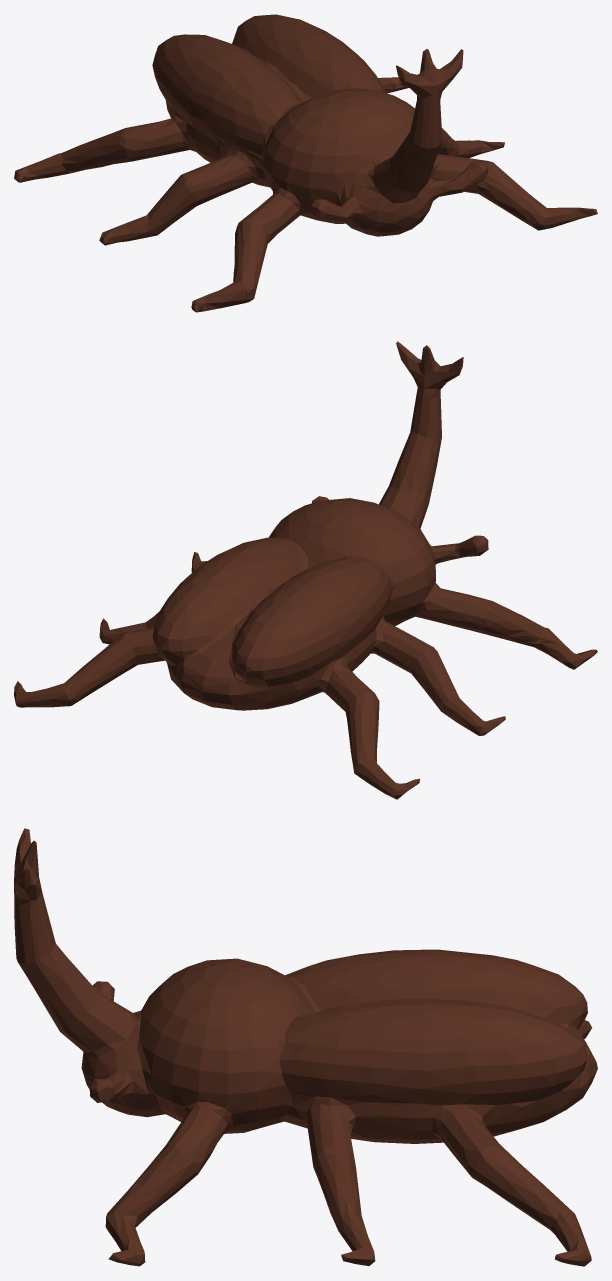
The model's file is NEW_RECOVERY_069_LOD1.glb.
3 views of the same model, one above another, from view 1: azimuth 30°, elevation 25°; view 2: azimuth 150°, elevation 25°; view 3: azimuth 270°, elevation 25° (orthographic). The views are drawn at different scales.
Parts seen in each view (by area): view 1: abdomen; view 2: abdomen; view 3: abdomen.
Boxes of the visible parts, <box> form: abdomen: <box>14,14,597,312</box>; abdomen: <box>14,341,597,799</box>; abdomen: <box>14,828,597,1266</box>.
Bounding box in the file's own units: 3.92 × 2.31 × 3.94.
